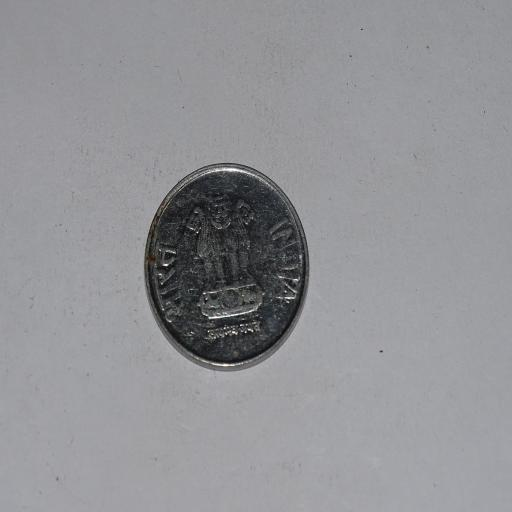rupee1: (141, 159, 312, 372)
